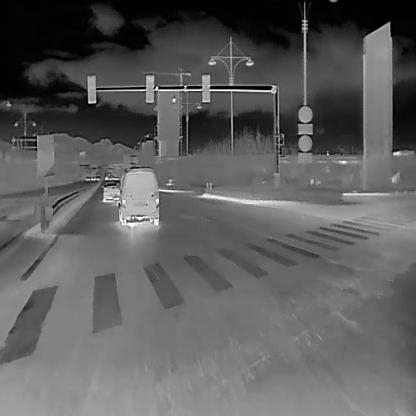car: (118, 165, 158, 226), (100, 180, 119, 202)
